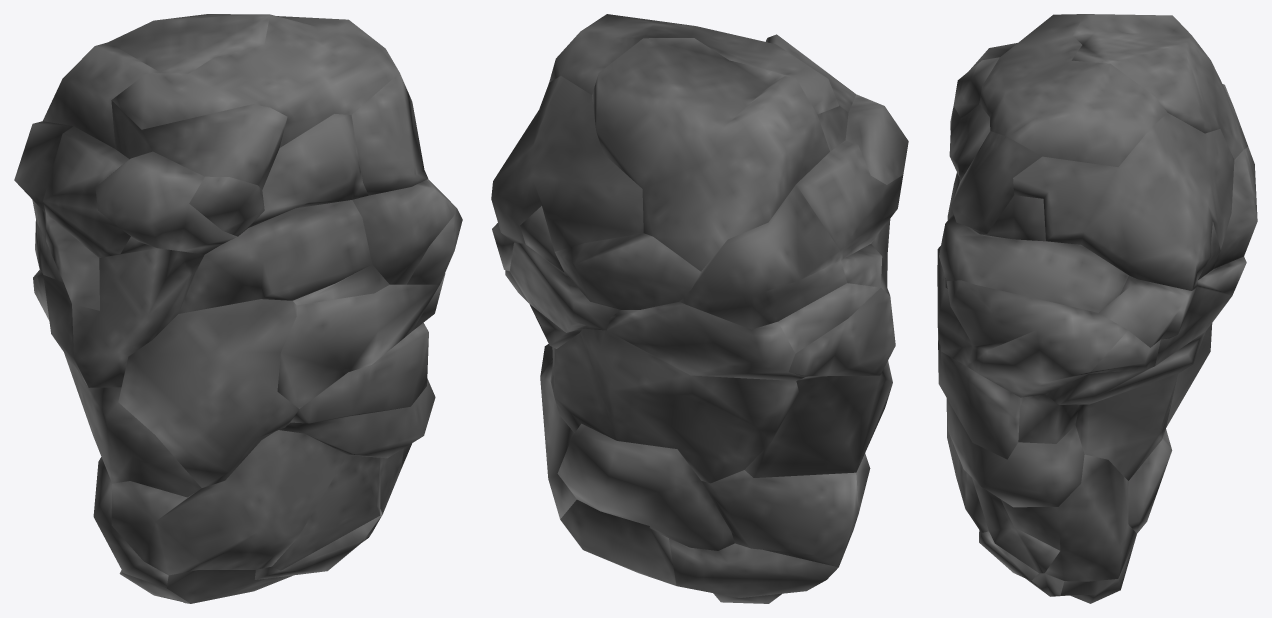
Rendered from quarry-face.lod1.glb.
3 views of the same model, side by side, from view 1: azimuth 30°, elevation 25°; view 2: azimuth 150°, elevation 25°; view 3: azimuth 270°, elevation 25° (orthographic). The views are drawn at different scales.
Parts seen in each view (by area): view 1: ValleyGrayCliff_M_ValleyGrayCliff_0; view 2: ValleyGrayCliff_M_ValleyGrayCliff_0; view 3: ValleyGrayCliff_M_ValleyGrayCliff_0.
Part boxes in pixels (bbox=[...]): ValleyGrayCliff_M_ValleyGrayCliff_0: bbox=[14, 14, 462, 603]; ValleyGrayCliff_M_ValleyGrayCliff_0: bbox=[491, 14, 908, 603]; ValleyGrayCliff_M_ValleyGrayCliff_0: bbox=[937, 14, 1257, 603].
Size of the model in its own units: 13.85 by 20.35 by 10.98.
Materials: 1 (1 with a texture image).
